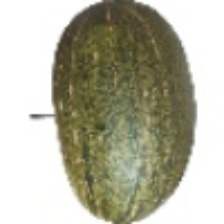honeydew: (32, 8, 215, 182)
